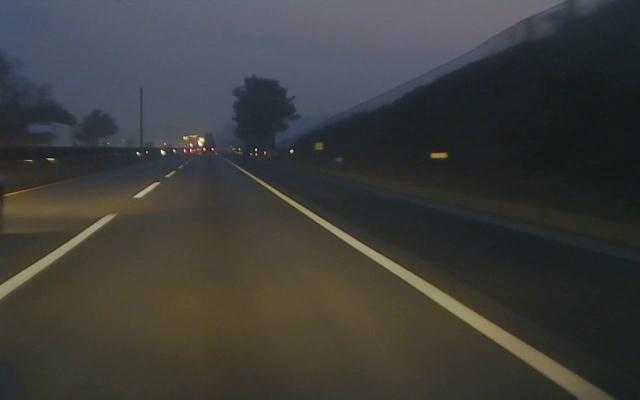lane: (225, 161, 624, 400), (0, 159, 191, 300)
